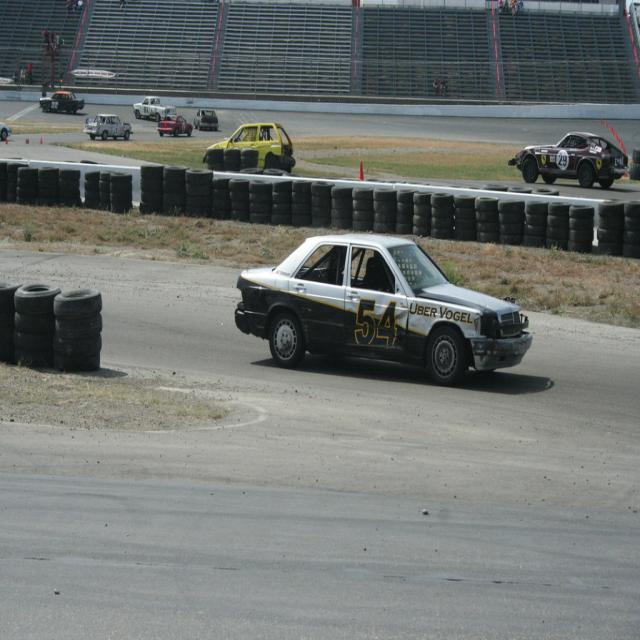car: (230, 222, 532, 386), (506, 130, 630, 186), (202, 119, 294, 171), (80, 112, 133, 150), (33, 84, 91, 115), (155, 111, 193, 139), (191, 101, 221, 130)
